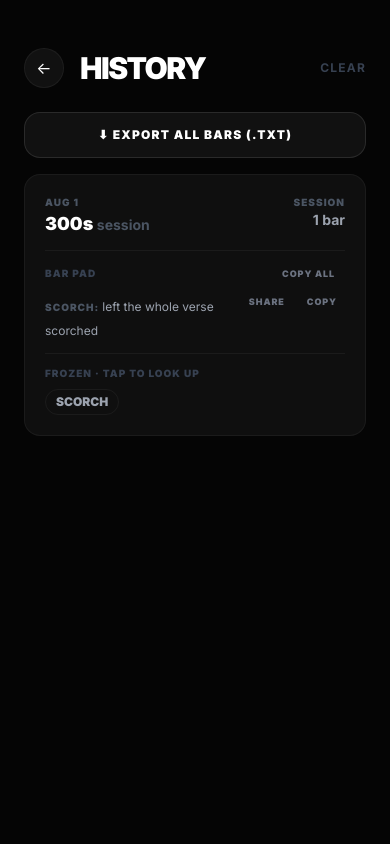
Scenario: History: a frozen word can be looked up again › closing the reference returns to History without losing it
What coordinates should you click on to do the following:
click the button with aria-label "Look up scorch"
I would click on:
 (82, 402)
Its box is [45,388,119,414].
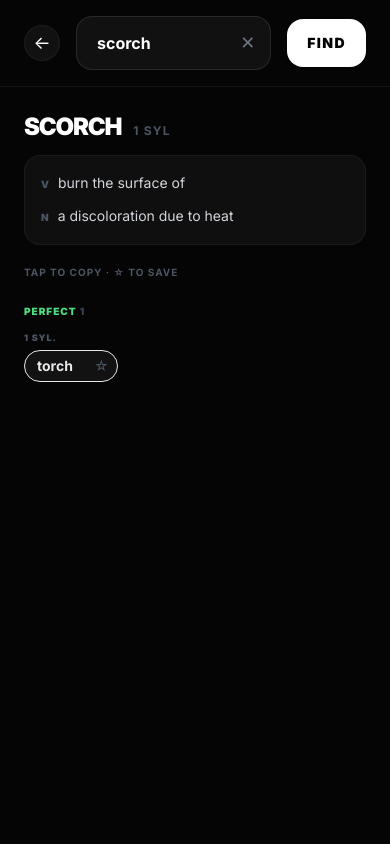
Now the text "burn the surface of" is shown, box [58,174,185,191]
What coordinates should you click on to do the following:
click the button named "Close Rhyme Search"
I would click on:
 (42, 43)
Its box is [24,25,60,61].
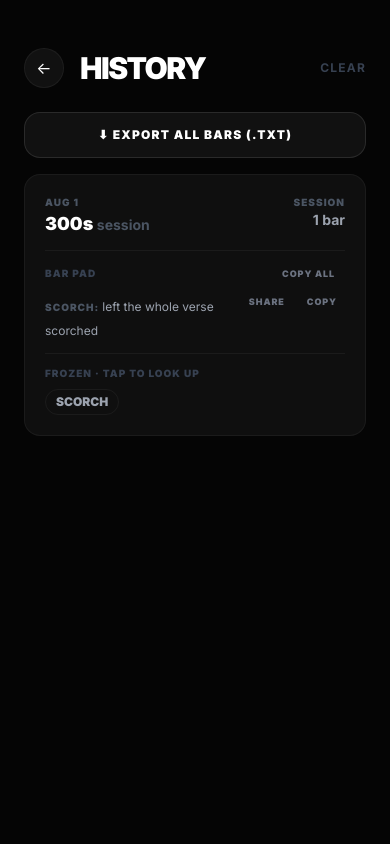
Expected: the button with aria-label "Look up scorch" is shown, [45,388,119,414]
Now the text "burn the surface of" is gone
